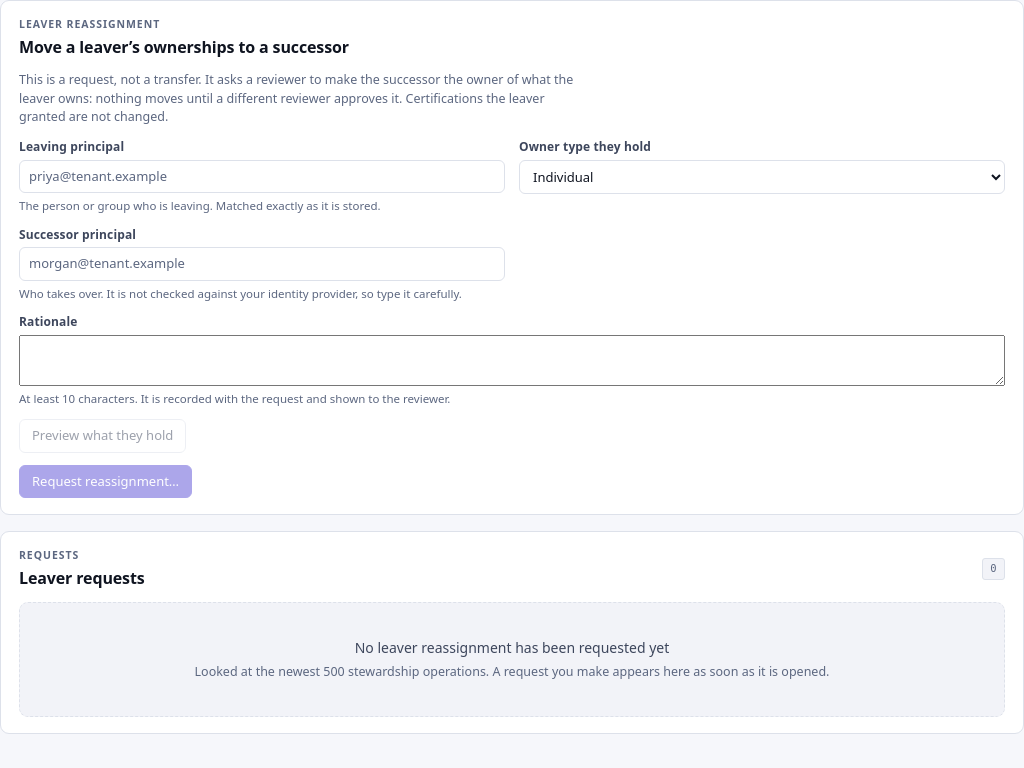
it: Leaver reassignment: the form › registers typed work as unsaved, and stops once the request is made
Expected: the button "Request reassignment…" is shown, [19,465,192,498]
In the field labelled "Leaving principal": (262, 177) [19,160,505,193], type "priya"
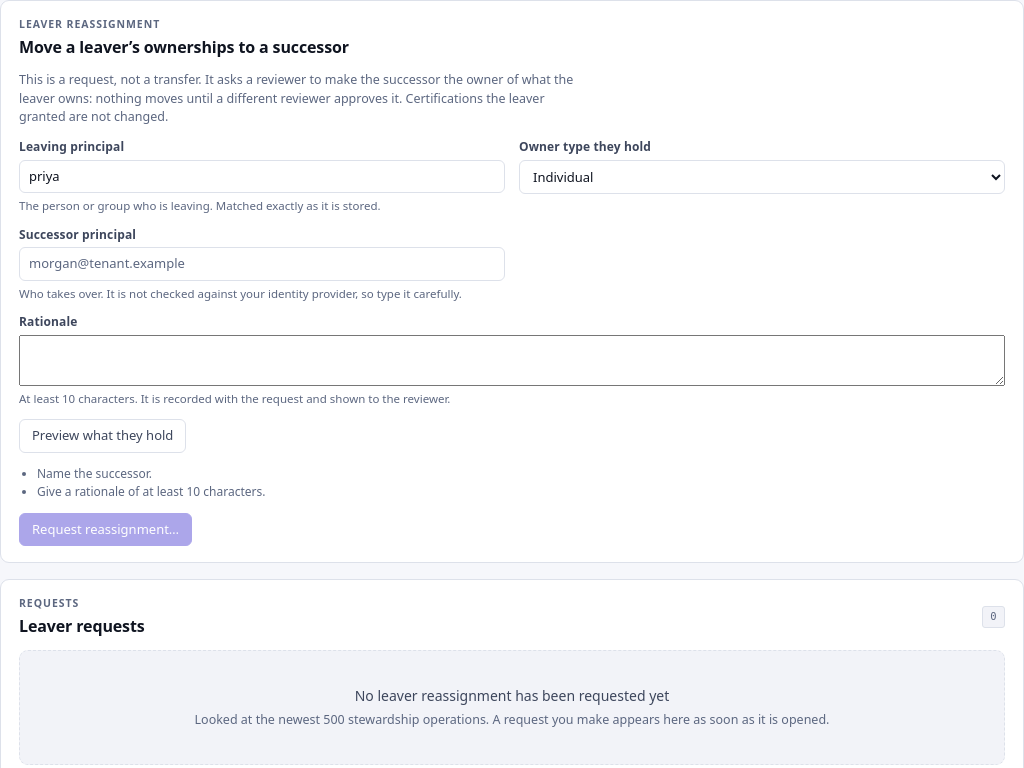
In the field labelled "Successor principal": (262, 264) [19,247,505,281], type "morgan"
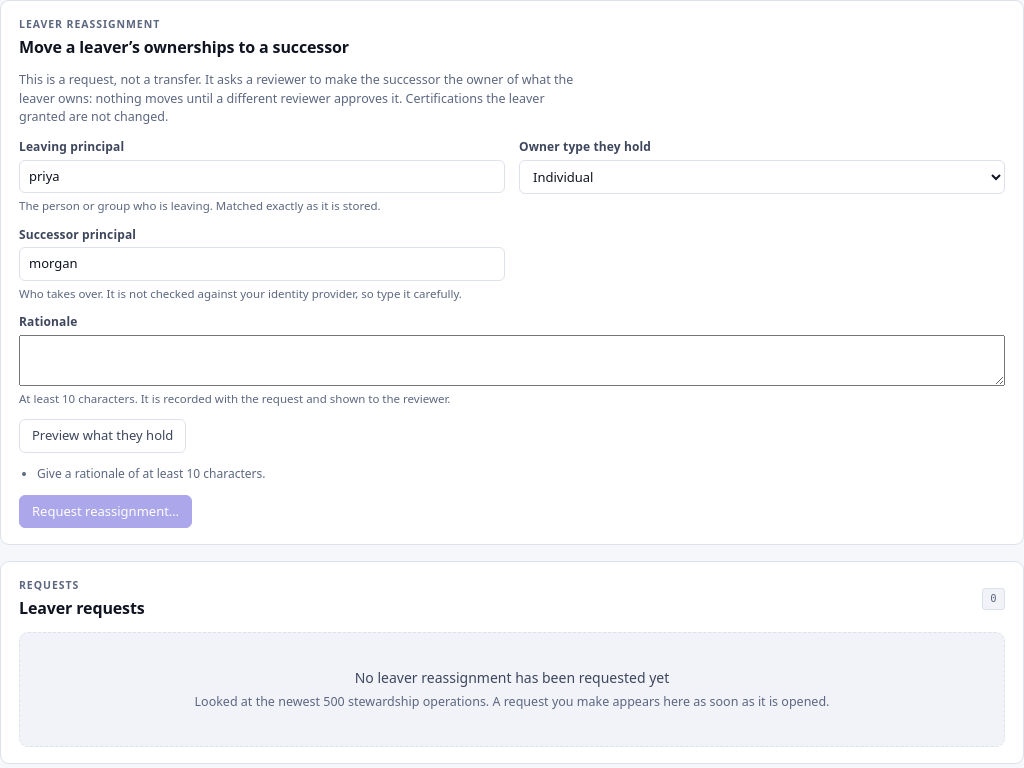
In the text box labelled "Rationale": (512, 360) [19,335,1005,386], type "Priya left the bank on 2026-09-18."
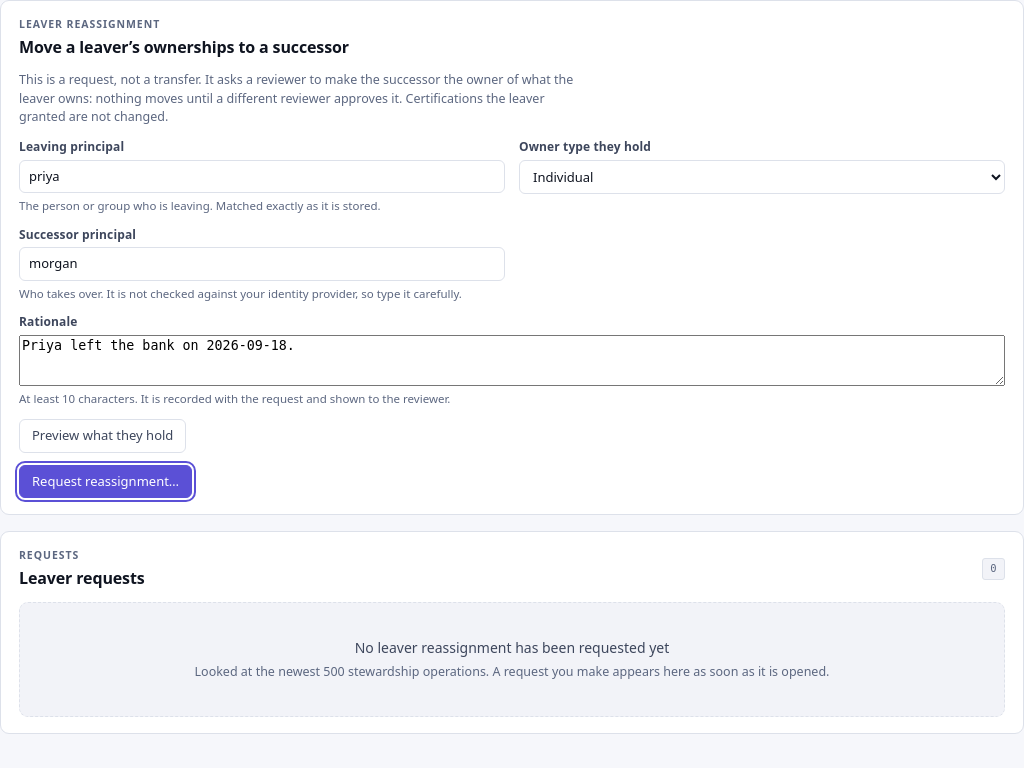
Click the button "Request reassignment…": (106, 481) [19,465,192,498]
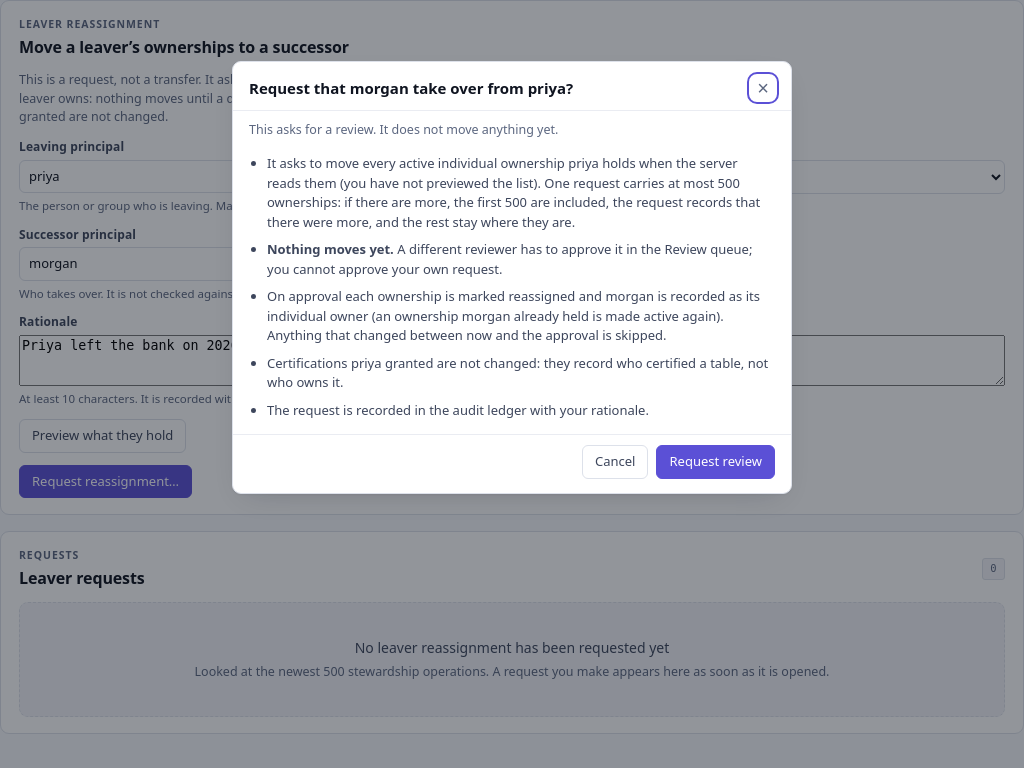
Click the button "Request review": (716, 462) [656,445,775,479]
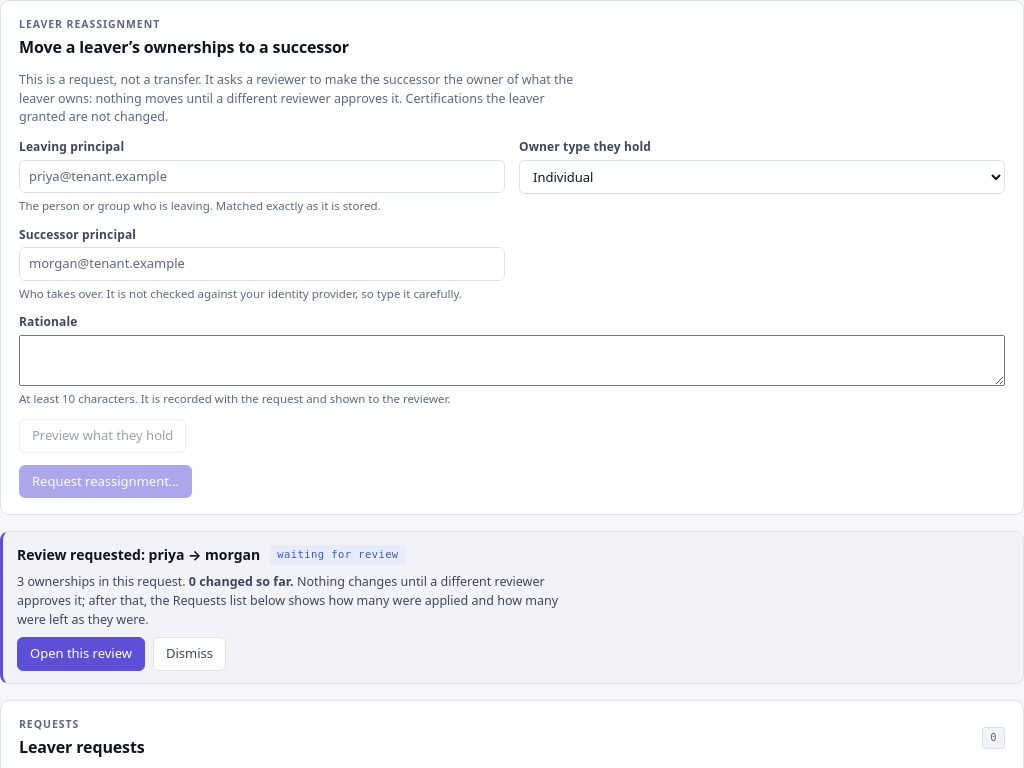
Now the message "Review requested" is shown, box [0,531,1023,684]
